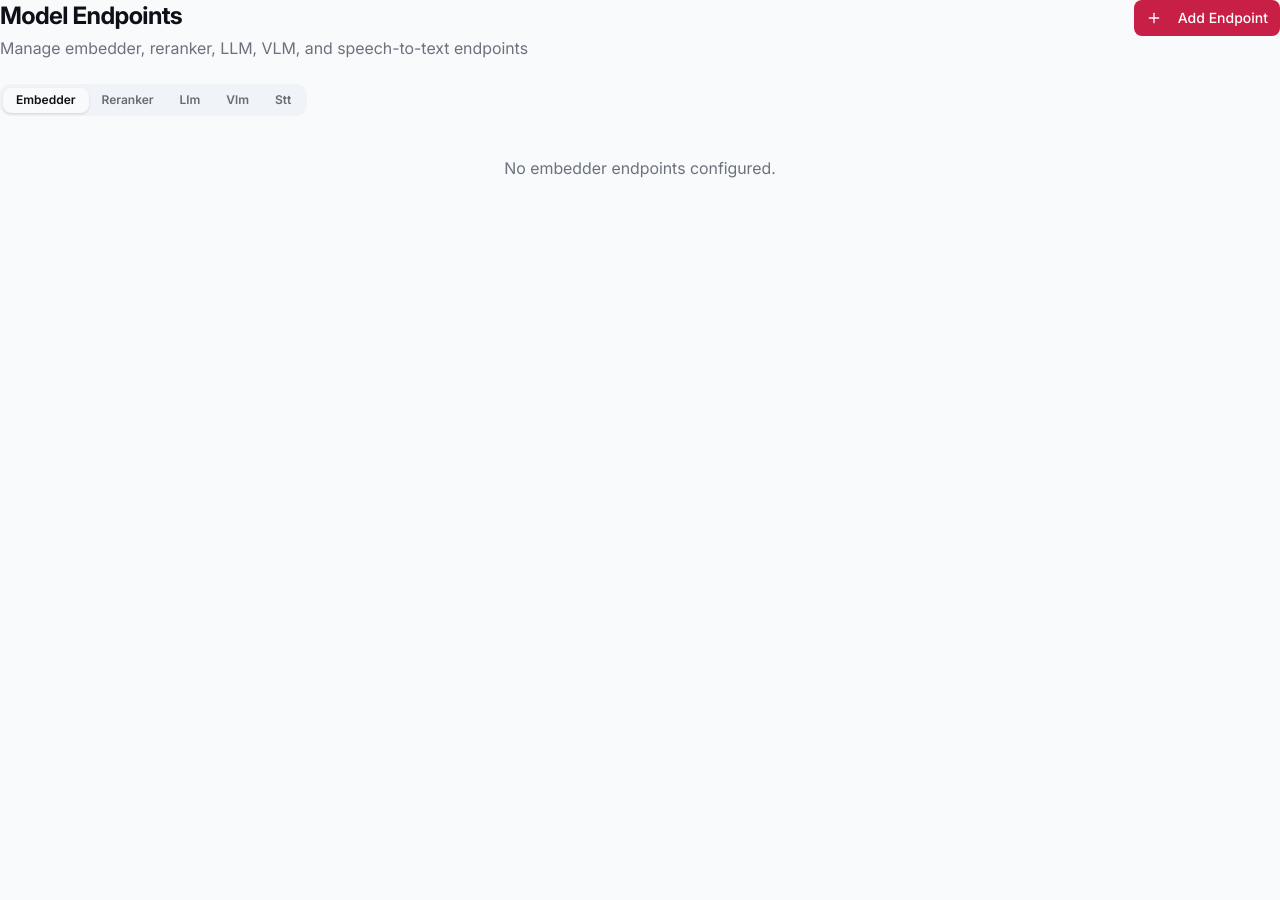
it: ModelsPage validation › requires revalidation after changing a stored STT endpoint timeout
Check: the text "No embedder endpoints configured." is shown, box [504, 158, 776, 178]
Click the tab "stt".
click(283, 100)  # box [262, 88, 304, 112]
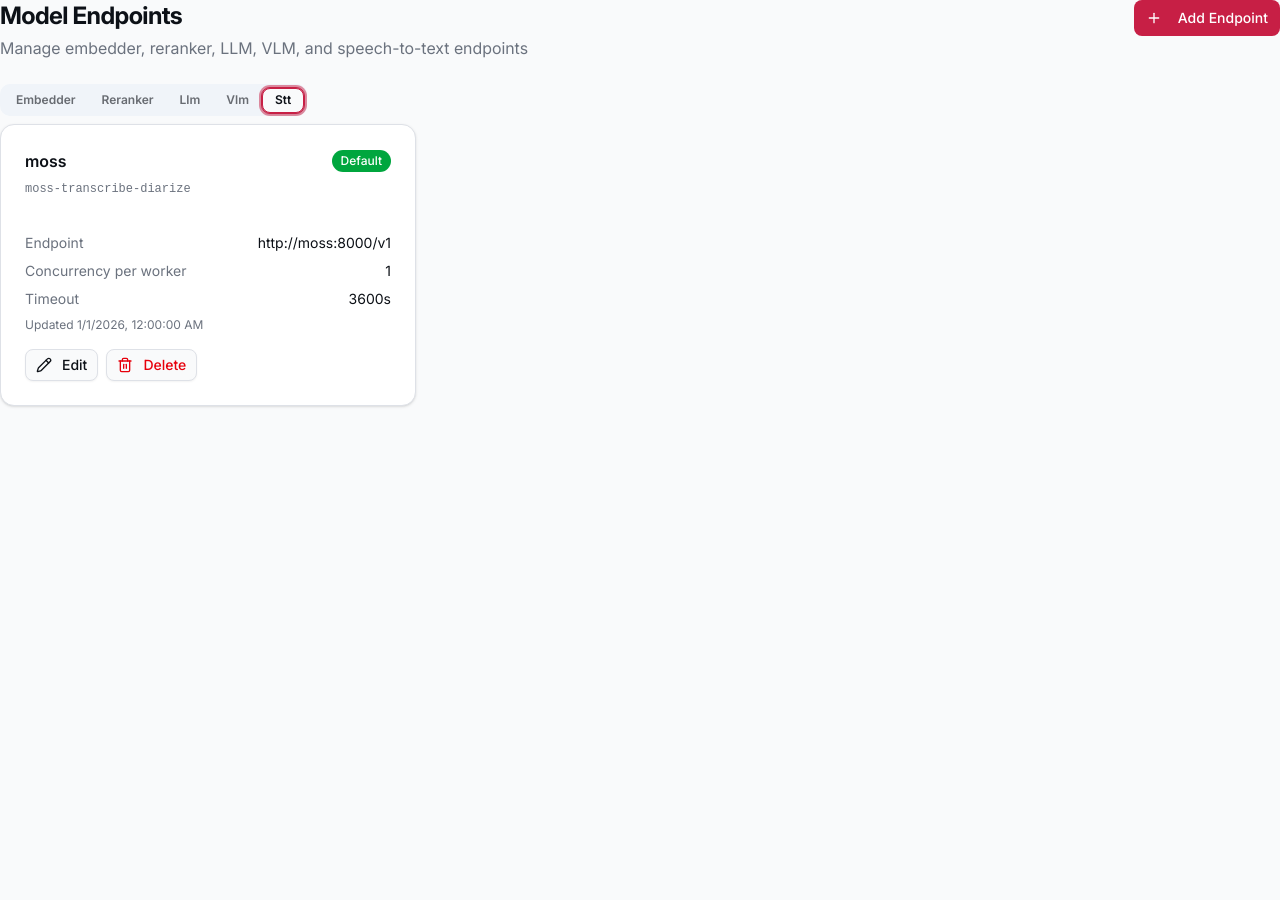
Check: the text "moss-transcribe-diarize" is shown, box [25, 182, 191, 196]
Click the button "Edit".
click(62, 365)  # box [25, 349, 98, 381]
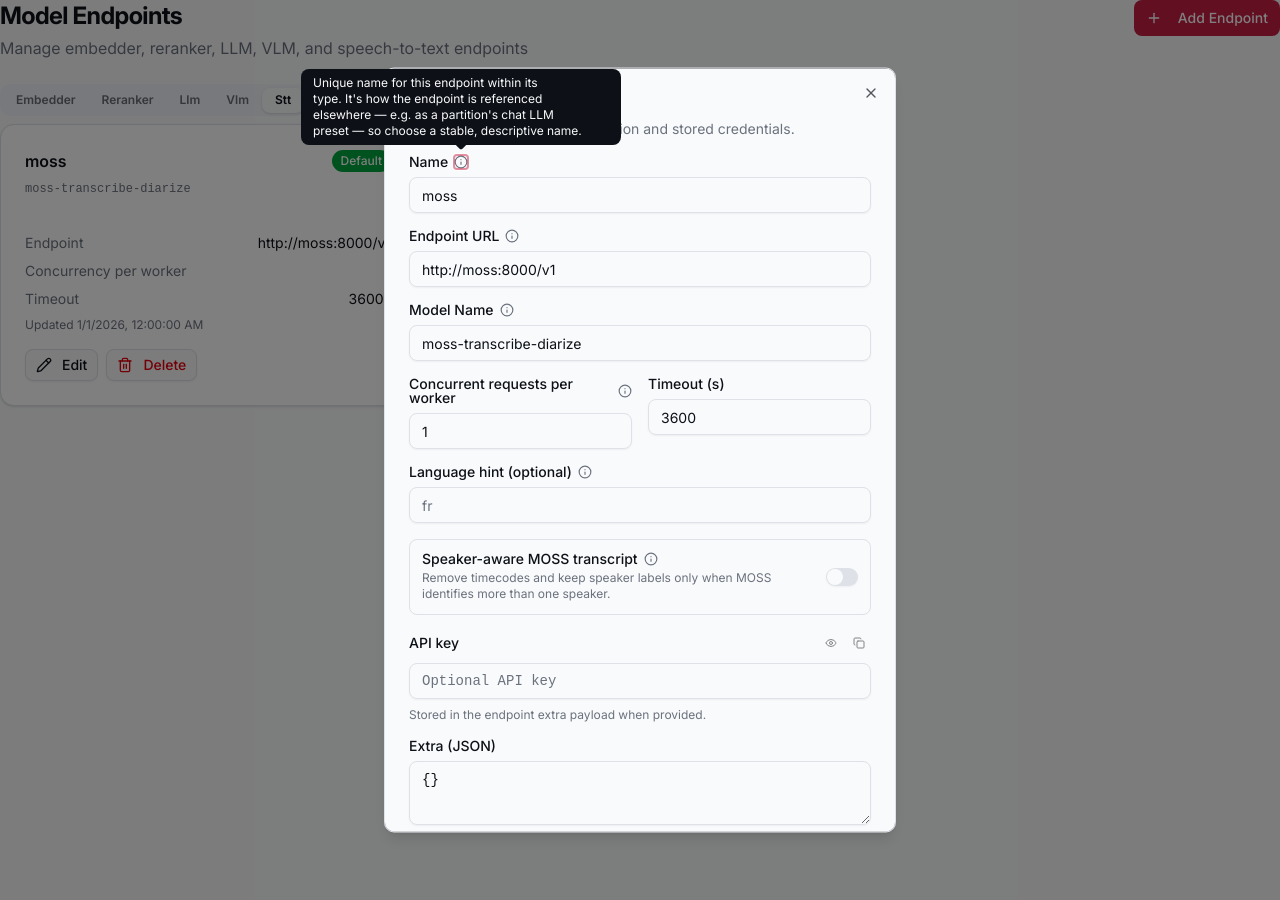
Replace the text in the number field below "Timeout (s)" with "725" at x=760, y=416, box [648, 398, 871, 434]
(page scrolled)
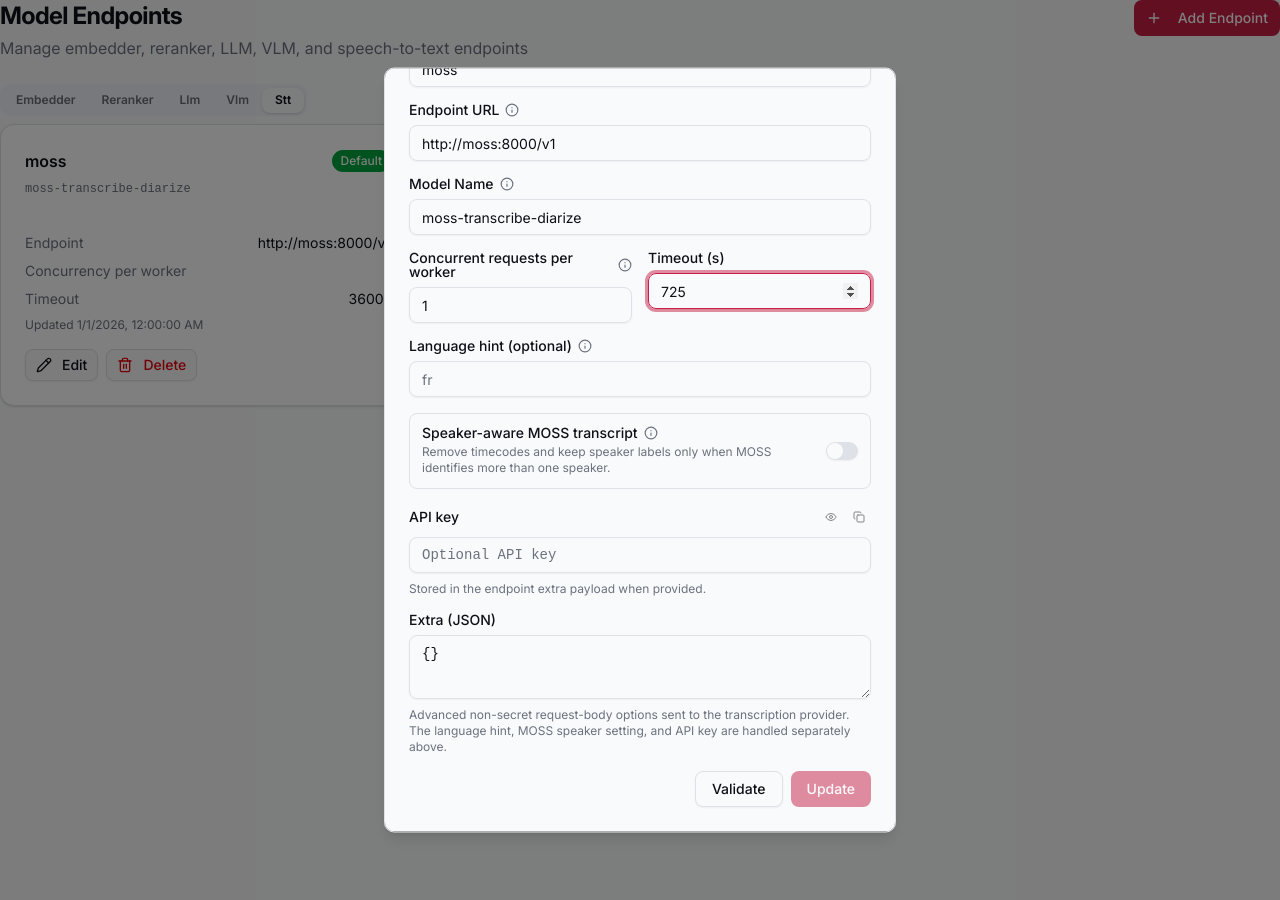
Check: the button "Update" is disabled, box [790, 772, 871, 808]
